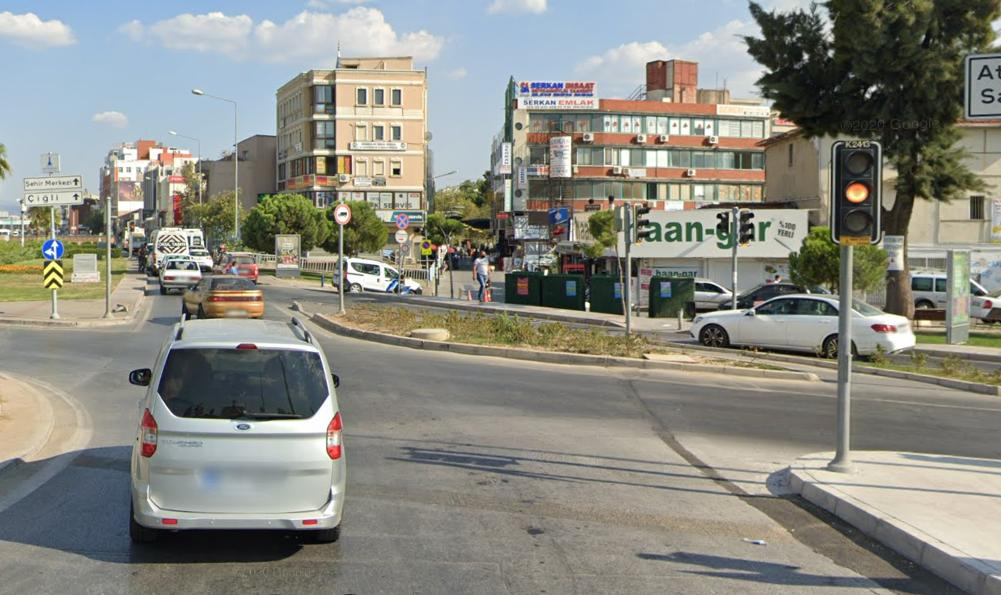yellowlight: (829, 140, 875, 241)
